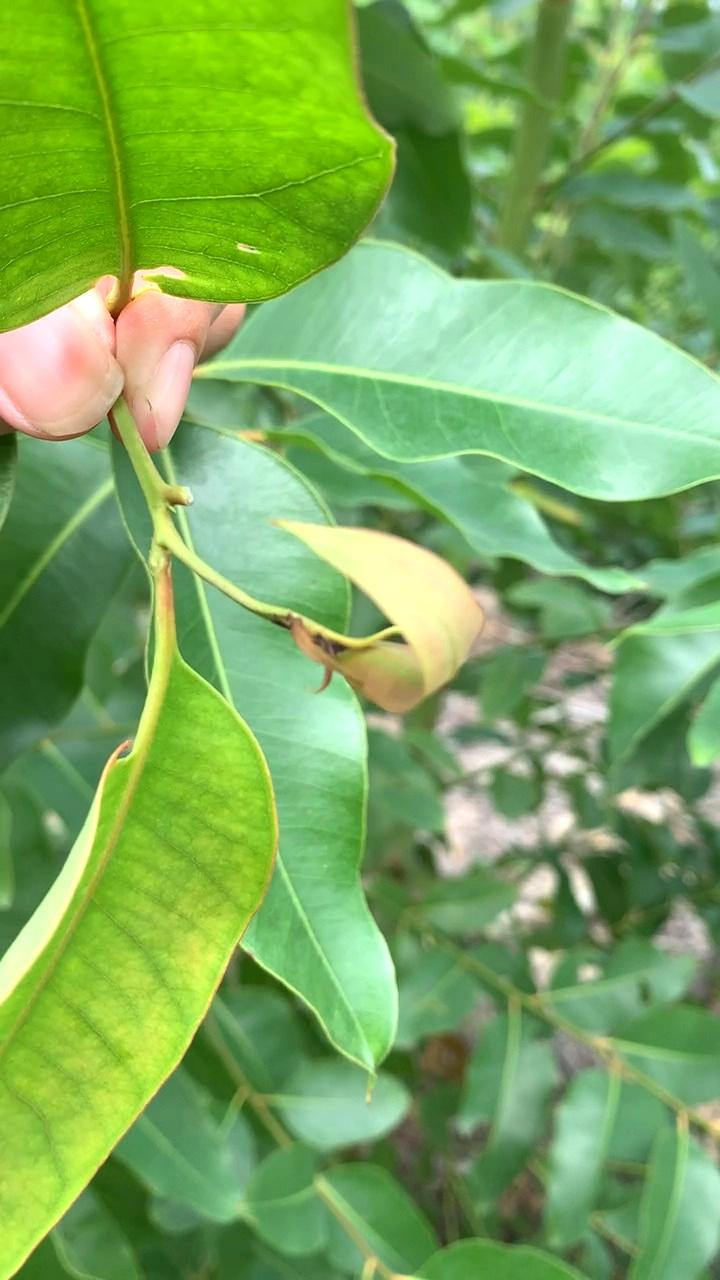Helopeltis-Withered Sprout: (295, 523, 483, 715)
